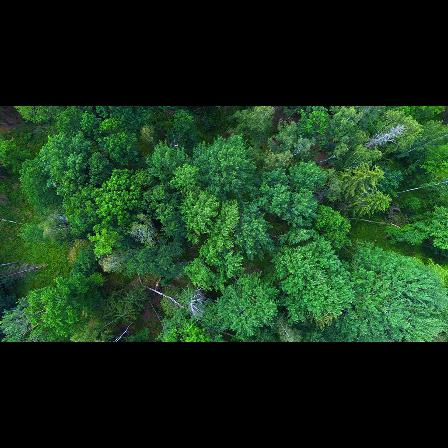Dead: (364, 123, 407, 152), (181, 284, 209, 319), (95, 252, 126, 276)
